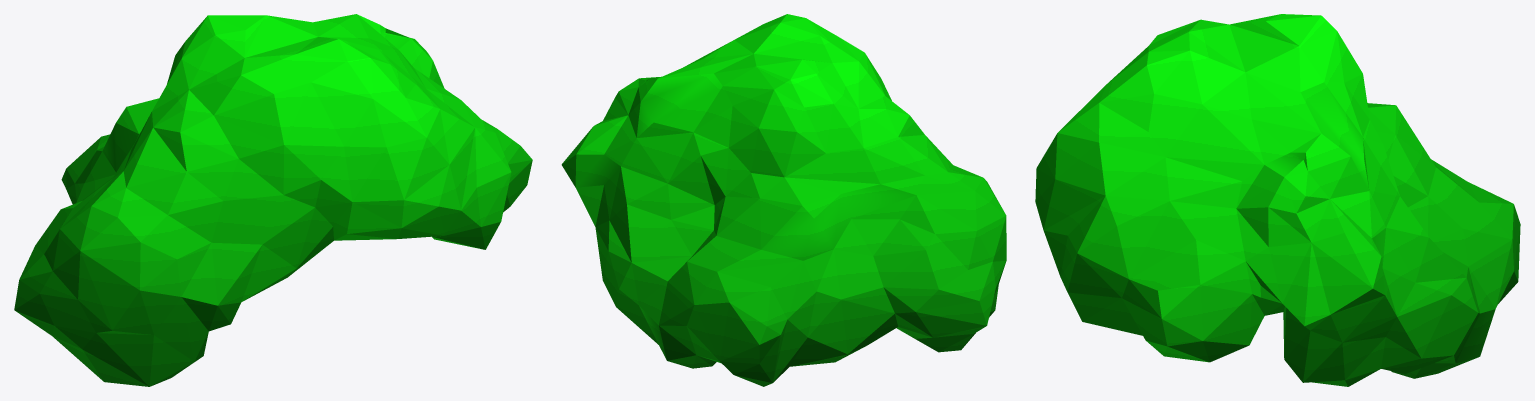
Rendered from Prefab_Foliage_Tree_Oak_Leaves_D.glb.
3 renders of one model, left to right at view 1: azimuth 30°, elevation 25°; view 2: azimuth 150°, elevation 25°; view 3: azimuth 270°, elevation 25°, orthographic. The views are drawn at different scales.
Visible parts, largest first — view 1: OakTree_A_Trunk.005; view 2: OakTree_A_Trunk.005; view 3: OakTree_A_Trunk.005.
Part boxes in pixels (bbox=[...]): OakTree_A_Trunk.005: bbox=[14, 14, 532, 386]; OakTree_A_Trunk.005: bbox=[561, 14, 1006, 386]; OakTree_A_Trunk.005: bbox=[1035, 14, 1520, 386].
Size of the model in its own units: 12.91 by 8.11 by 10.75.
Materials: 1 (1 with a texture image).
